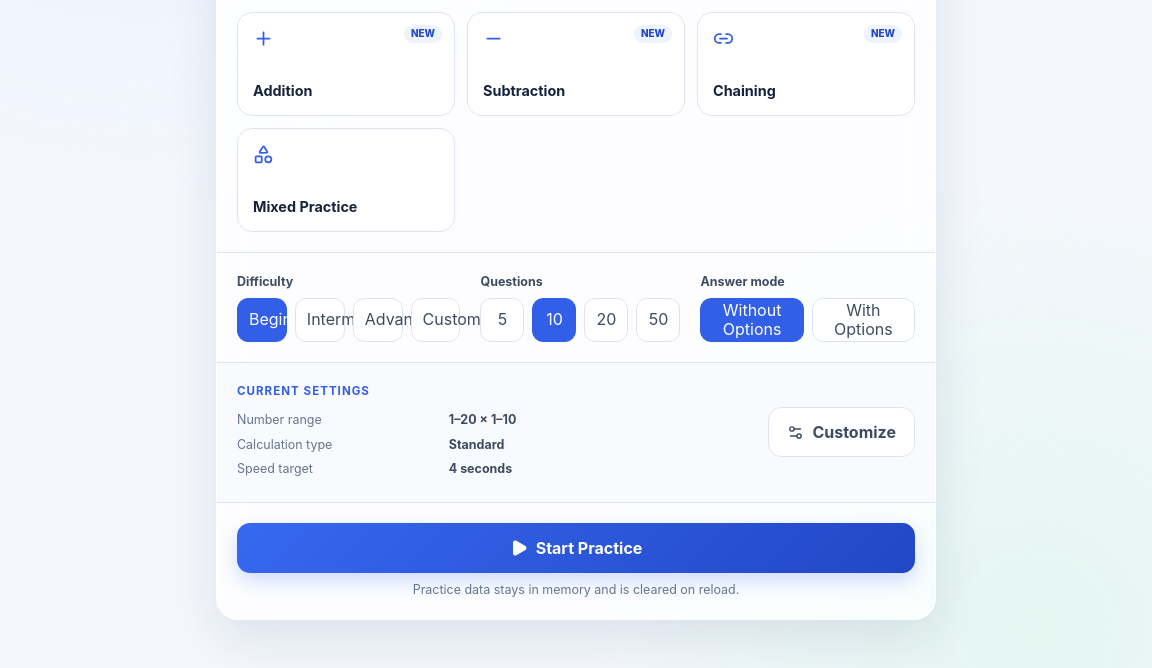
customization dialog › applies valid settings without starting and updates the committed summary
The image size is (1152, 668).
(page scrolled)
Step 1. Click the button "Customize" → [842, 432], box [768,408,915,458]
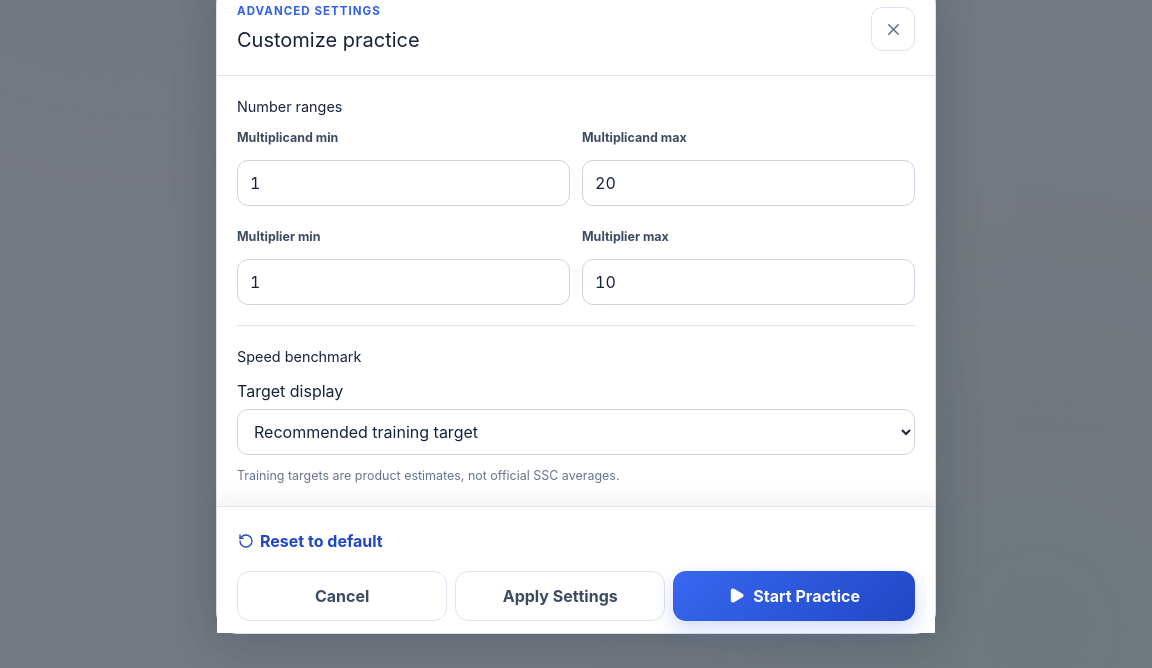
Step 2. Replace the text in the field labelled "Multiplicand min" with "5" → [404, 183], box [237,160,570,206]
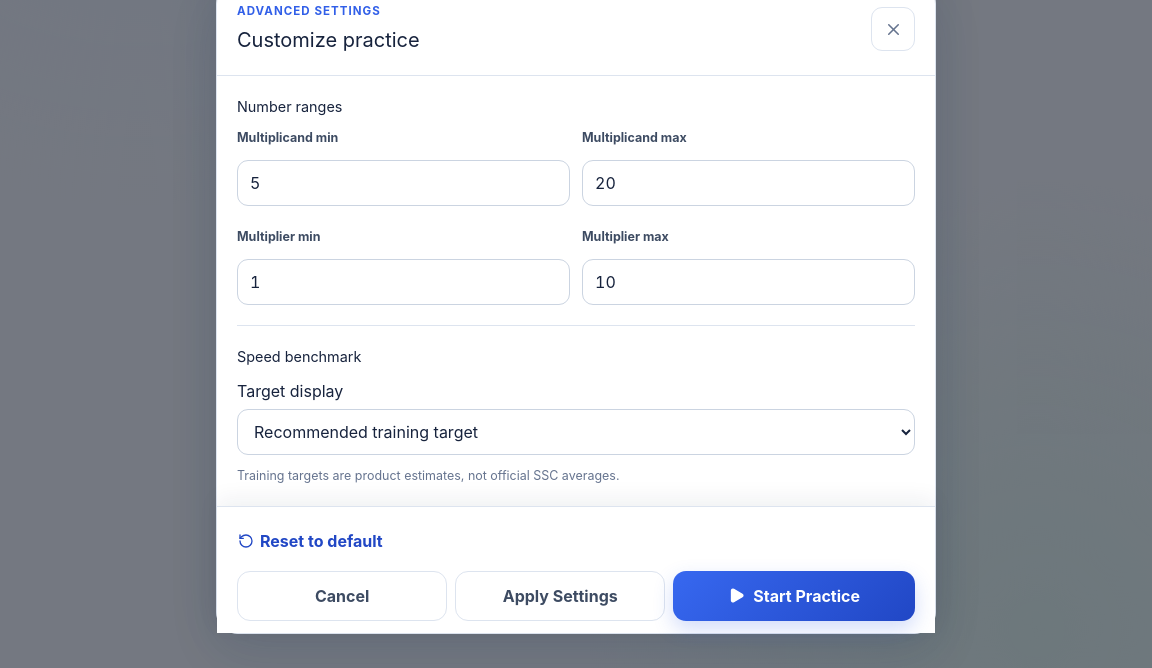
Step 3. Click the button "Apply Settings" → [560, 596], box [455,570,665,620]
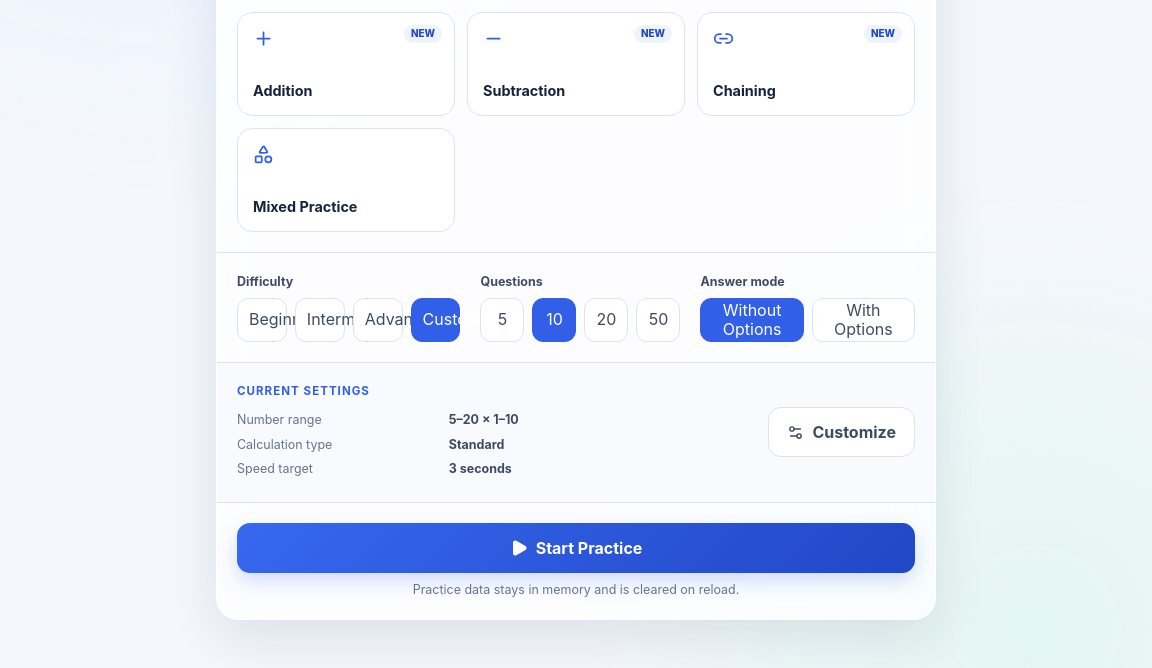
Result: the text "5–20 × 1–10" is shown at [449,412,519,427]
